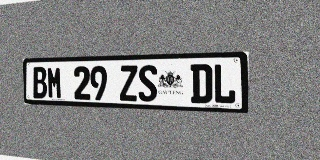2: (74, 66, 90, 100)
9: (90, 66, 107, 100)
B: (32, 67, 47, 98)
D: (191, 64, 212, 103)
L: (213, 63, 236, 104)
M: (47, 66, 62, 99)
S: (138, 65, 157, 102)
Z: (119, 65, 138, 101)
